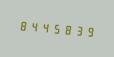eight: (17, 16, 27, 34), (61, 20, 71, 38)
five: (50, 19, 60, 37)
four: (28, 17, 38, 35), (39, 18, 49, 36)
nine: (83, 22, 93, 40)
three: (72, 21, 82, 39)
